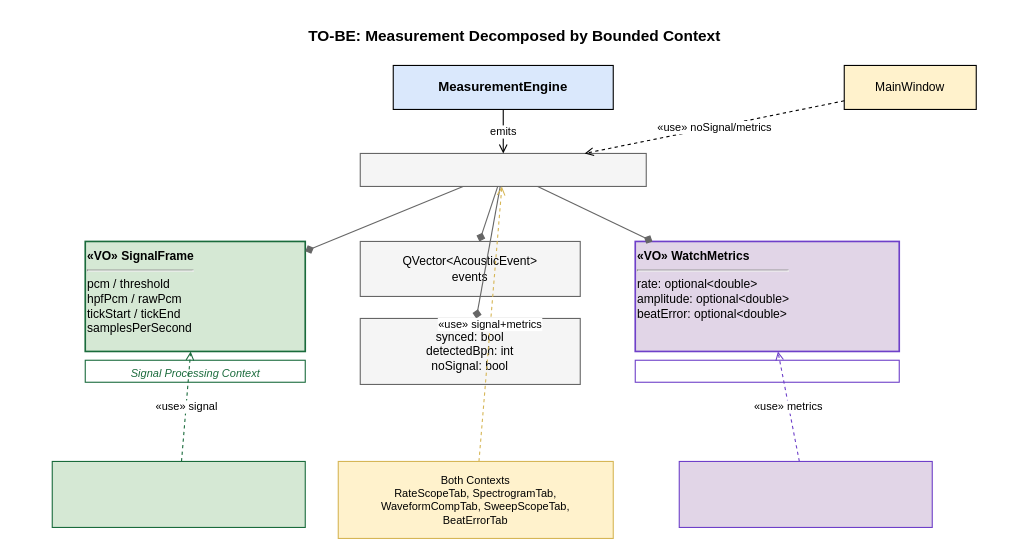
The diagram is 1027 pixels wide and 558 high, and some of its shapes have lost their labels. Here are the shapes that lost their labels. From the top down, the centre of each, then its label:
the point at 502,169: Measurement
the point at 766,370: Watch Analysis Context
the point at 178,493: Signal Tabs BeatNoiseScopeTab, EscapementTab, FilterScopeTab, SoundPrintTab
the point at 805,493: Analysis Tabs SequenceTab, LongTermTab, TraceTab, VarioTab
